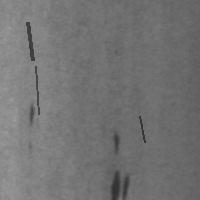inclusion: (106, 166, 132, 199), (23, 98, 39, 132), (108, 128, 123, 156), (25, 20, 34, 62), (33, 64, 40, 116), (137, 114, 146, 144)
